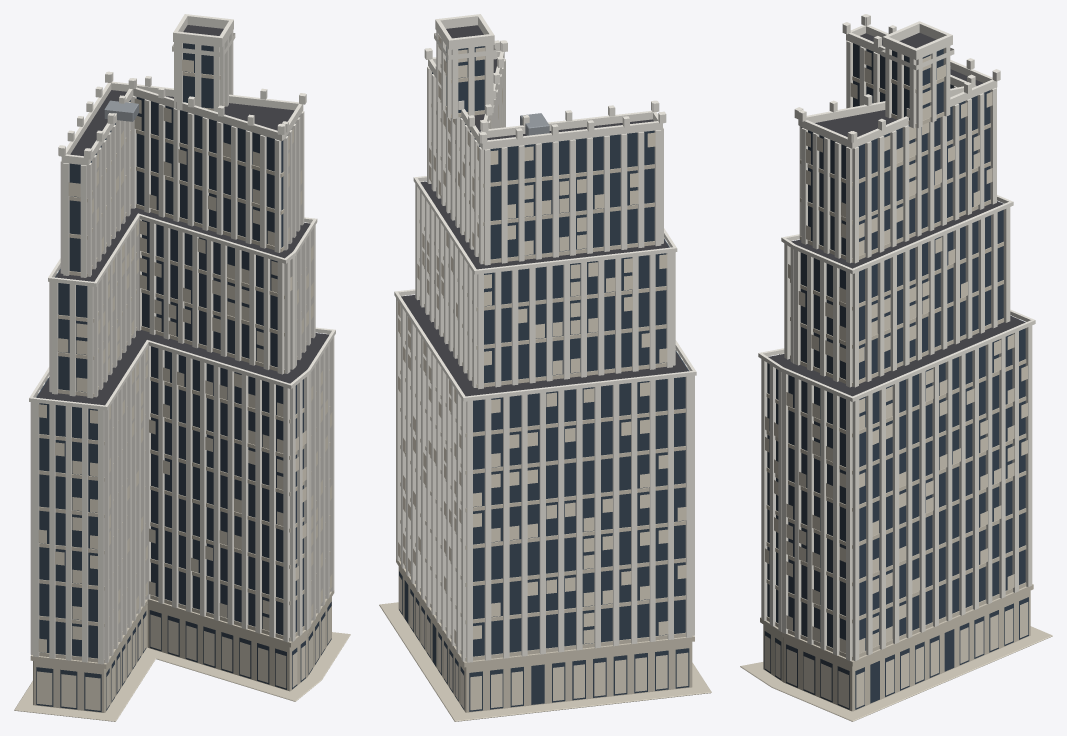
Rendered from 140-new-montgomery-street.glb.
3 views of the same model, side by side, from view 1: azimuth 30°, elevation 25°; view 2: azimuth 150°, elevation 25°; view 3: azimuth 270°, elevation 25° (orthographic). The views are drawn at different scales.
Visible parts, largest first — view 1: 140-new-montgomery-street_body, 140-new-montgomery-street_night_glow; view 2: 140-new-montgomery-street_body, 140-new-montgomery-street_night_glow; view 3: 140-new-montgomery-street_body, 140-new-montgomery-street_night_glow.
Boxes of the visible parts, x1,y1,x2,y2 form: 140-new-montgomery-street_body: [14, 14, 350, 721]; 140-new-montgomery-street_night_glow: [37, 33, 332, 710]; 140-new-montgomery-street_body: [379, 14, 711, 721]; 140-new-montgomery-street_night_glow: [398, 33, 688, 710]; 140-new-montgomery-street_body: [740, 14, 1052, 721]; 140-new-montgomery-street_night_glow: [765, 48, 1028, 708].
Bounding box in the file's own units: 74.63 × 133 × 59.87.
